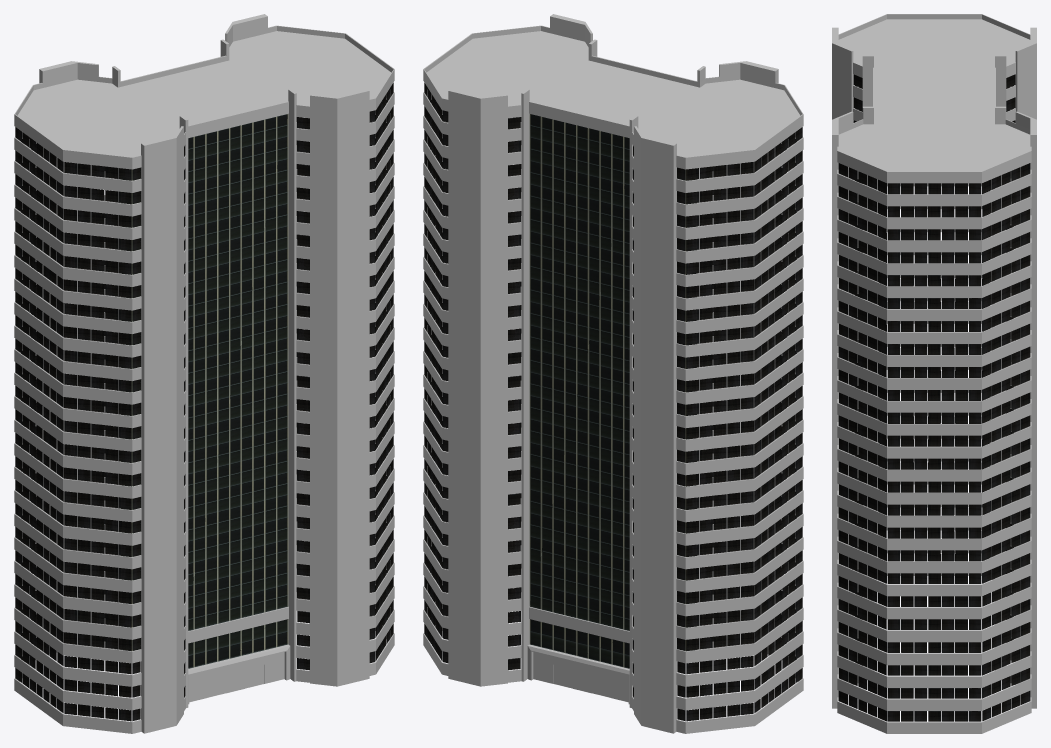
3 views of the same model, side by side, from view 1: azimuth 30°, elevation 25°; view 2: azimuth 150°, elevation 25°; view 3: azimuth 270°, elevation 25° (orthographic). The views are drawn at different scales.
Visible parts, largest first — view 1: BC-088; view 2: BC-088; view 3: BC-088.
Part boxes in pixels (<box>): BC-088: <box>14,14,394,733</box>; BC-088: <box>423,14,803,733</box>; BC-088: <box>832,14,1036,733</box>.
Size of what is drawn, in the model's own units: 47.4 by 80.3 by 25.98.
